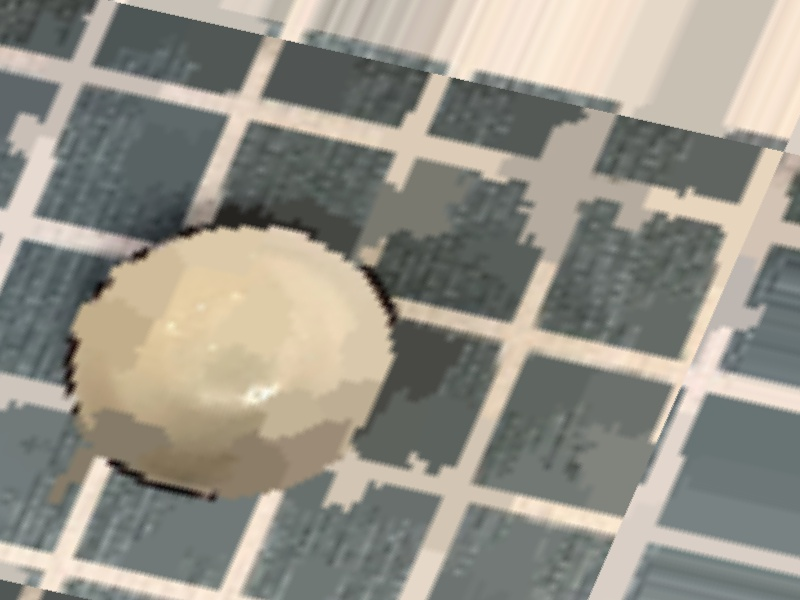bowl_small: (2, 178, 461, 537)
